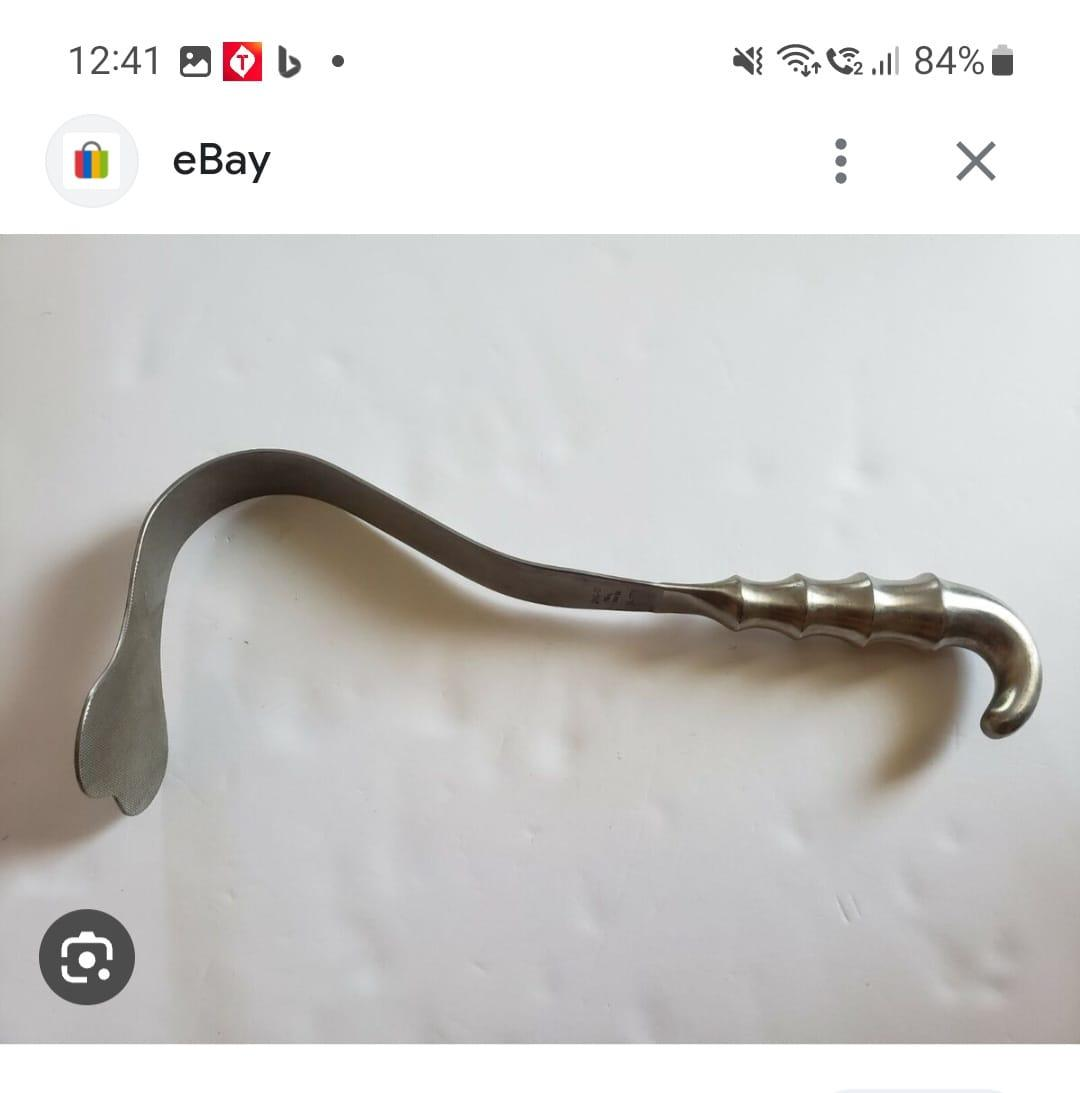Harrington Retractor: (58, 438, 1045, 832)
